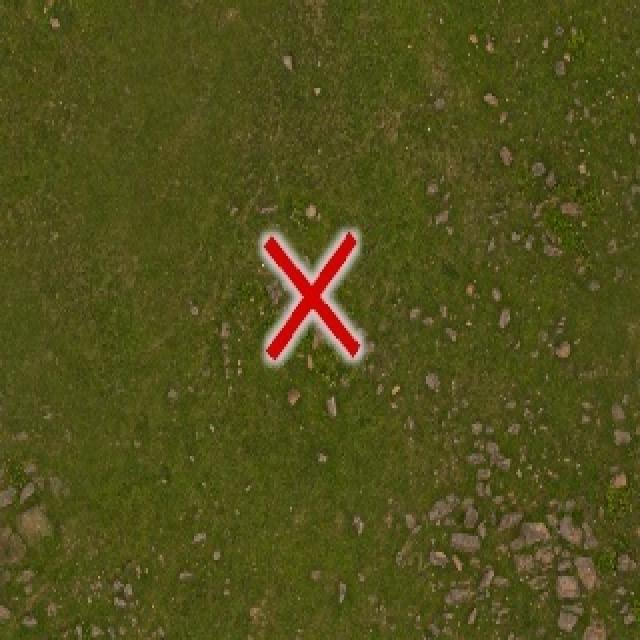x_marker: (263, 233, 359, 359)
